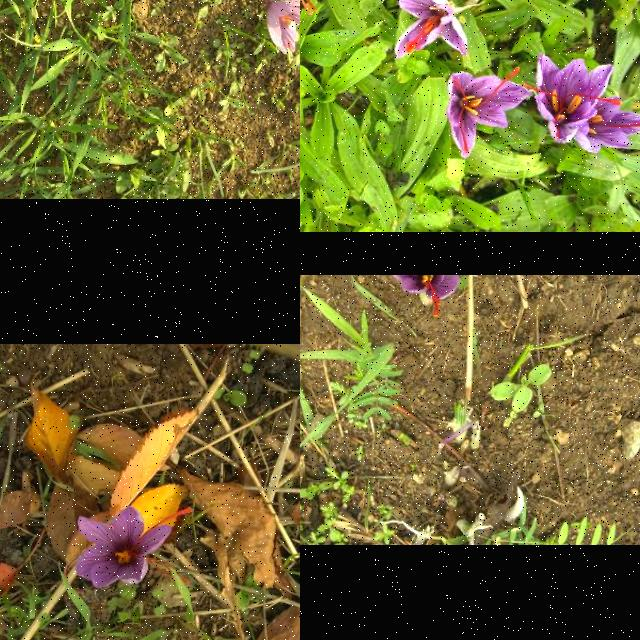flower: (76, 506, 194, 590), (447, 68, 529, 158), (395, 0, 469, 59), (379, 275, 461, 317), (266, 0, 300, 54)
overlap: (525, 54, 640, 155)
